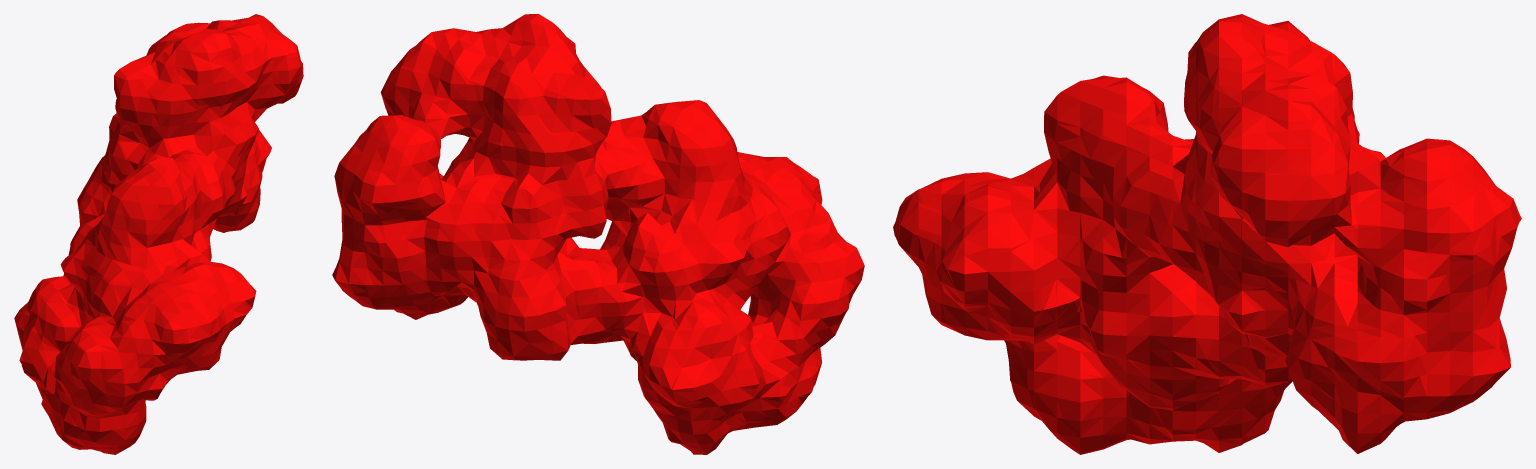
File: mlc_coarse.dae
3 renders of one model, left to right at view 1: azimuth 30°, elevation 25°; view 2: azimuth 150°, elevation 25°; view 3: azimuth 270°, elevation 25°, orthographic. The views are drawn at different scales.
Visible parts, largest first — view 1: mlc; view 2: mlc; view 3: mlc.
Part boxes in pixels (x1,y1,x2,y2): mlc: (14, 14, 303, 454); mlc: (332, 14, 864, 454); mlc: (893, 14, 1521, 454).
Bounding box in the file's own units: 112 × 119 × 126.
